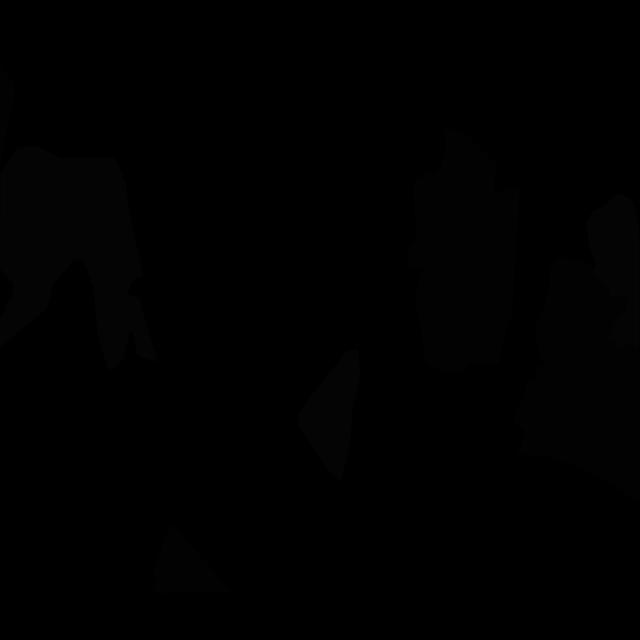cardboard: (406, 128, 520, 372), (512, 336, 640, 508), (536, 256, 628, 365), (150, 524, 231, 595), (0, 67, 15, 165)
soft_plastic: (0, 145, 158, 371), (586, 193, 640, 348), (298, 349, 360, 482)
